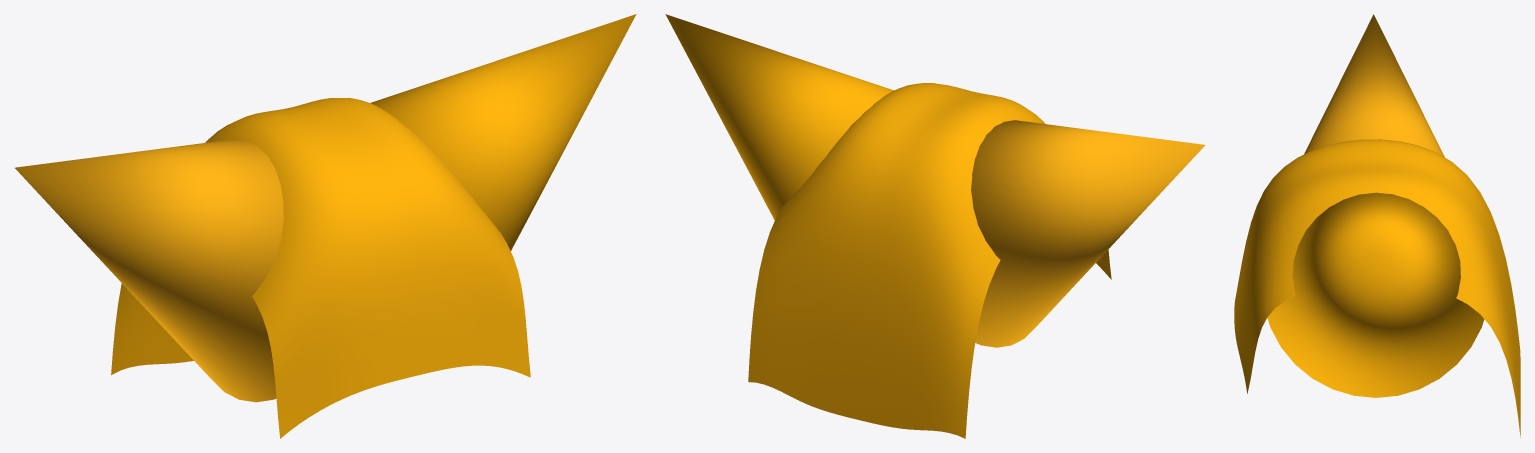
Rendered from topi minang aja.fbx.
3 views of the same model, side by side, from view 1: azimuth 30°, elevation 25°; view 2: azimuth 150°, elevation 25°; view 3: azimuth 270°, elevation 25° (orthographic). The views are drawn at different scales.
Parts seen in each view (by area): view 1: topi minang; view 2: topi minang; view 3: topi minang.
Boxes of the visible parts, <box> form: topi minang: <box>15,14,636,438</box>; topi minang: <box>665,14,1205,438</box>; topi minang: <box>1234,14,1520,437</box>.
Size of the model in its own units: 54.87 by 27.53 by 27.1.
